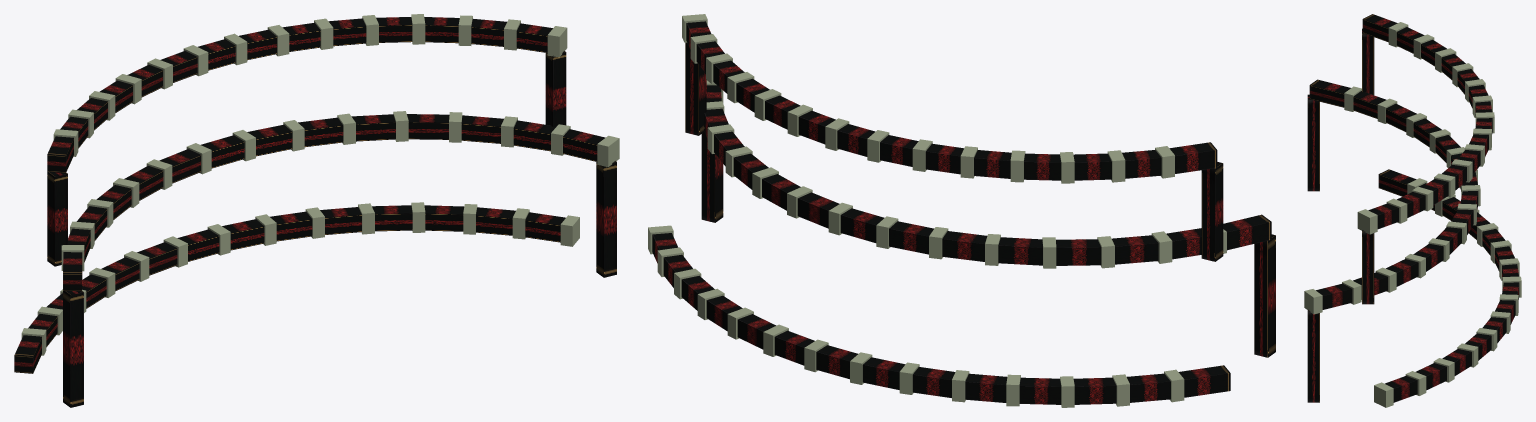
Rendered from rack.glb.
3 views of the same model, side by side, from view 1: azimuth 30°, elevation 25°; view 2: azimuth 150°, elevation 25°; view 3: azimuth 270°, elevation 25° (orthographic). The views are drawn at different scales.
Visible parts, largest first — view 1: rack; view 2: rack; view 3: rack.
Part boxes in pixels (x1,y1,x2,y2): rack: (14, 14, 619, 407); rack: (648, 14, 1275, 407); rack: (1304, 14, 1521, 407).
Bounding box in the file's own units: 2.57 × 0.97 × 1.05.
2 materials, 1 textured.
